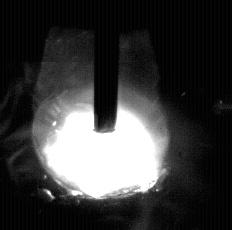arame: (95, 0, 119, 133)
poca: (32, 0, 171, 230)
